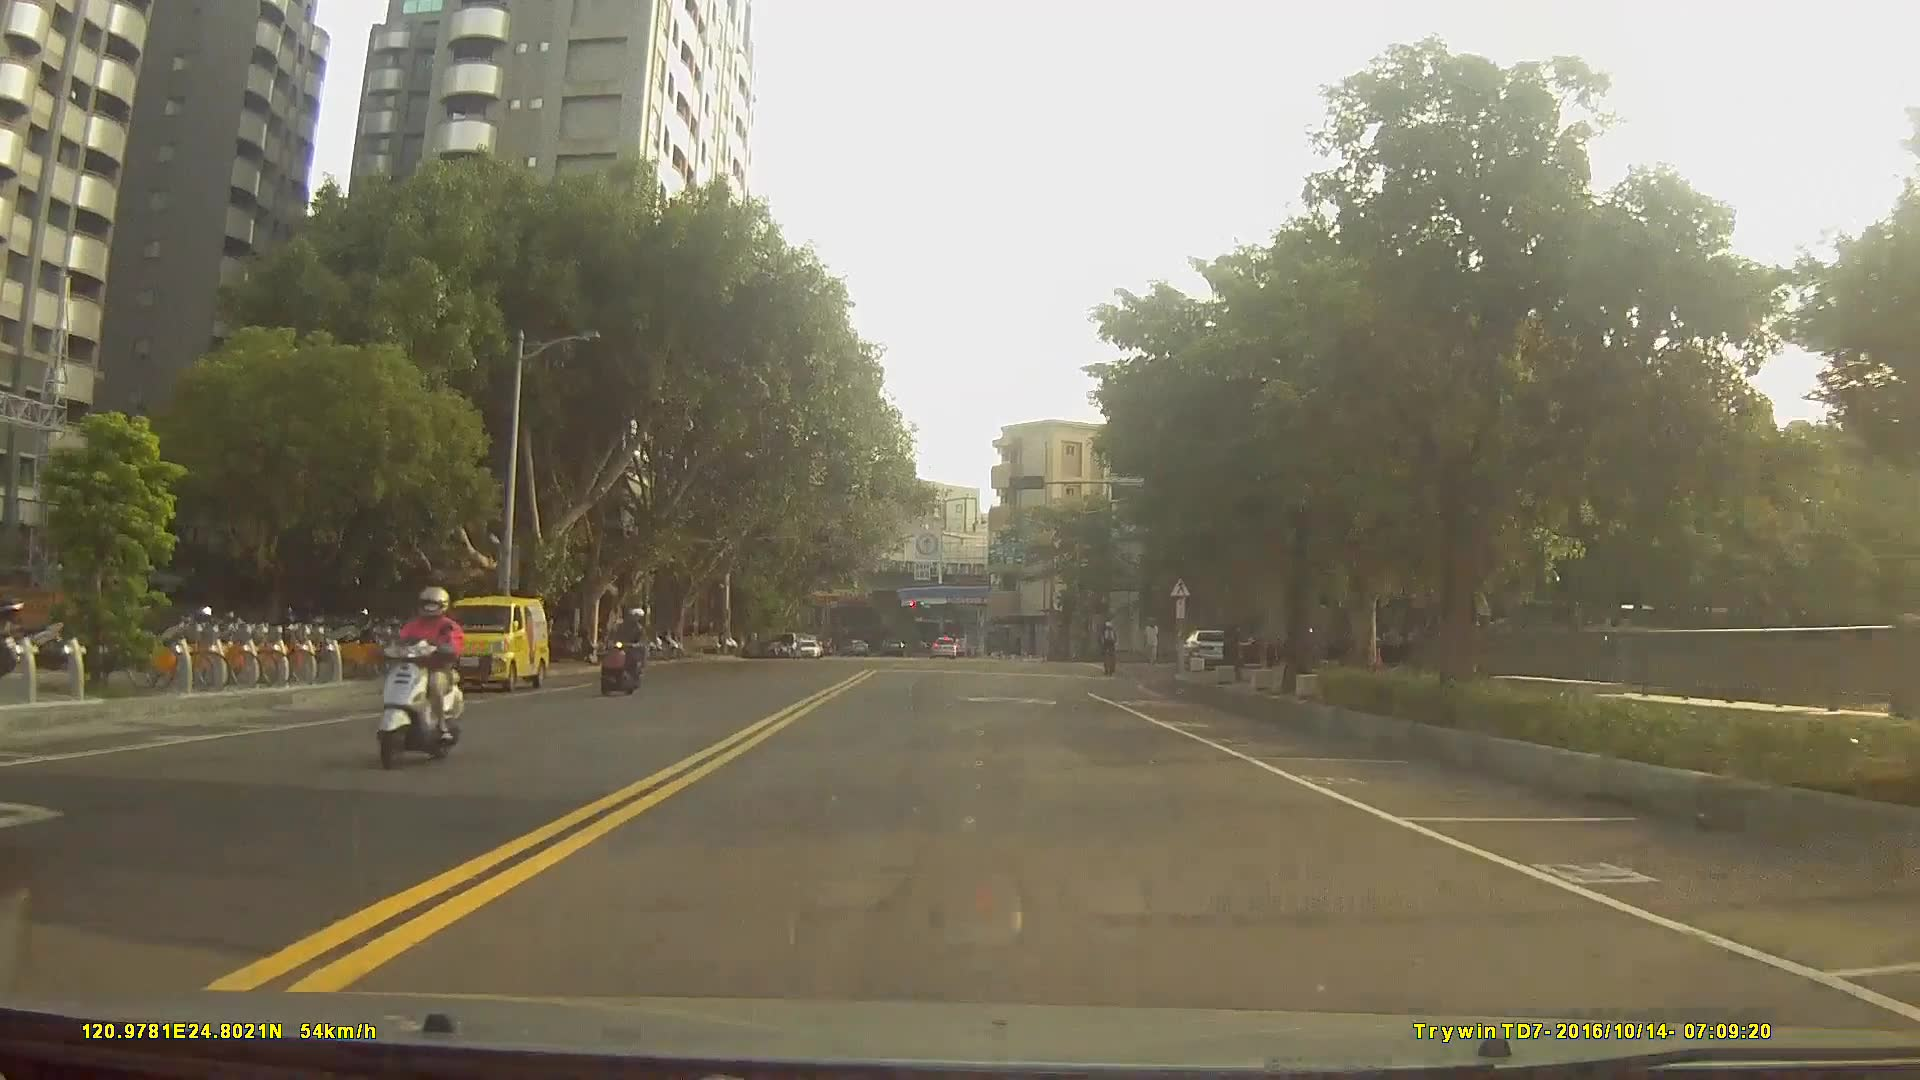pedestrian: (1141, 615, 1161, 668)
rider: (372, 584, 468, 768), (598, 606, 652, 698), (1101, 619, 1121, 678)
vehicle: (1177, 627, 1238, 668), (931, 636, 957, 659)
